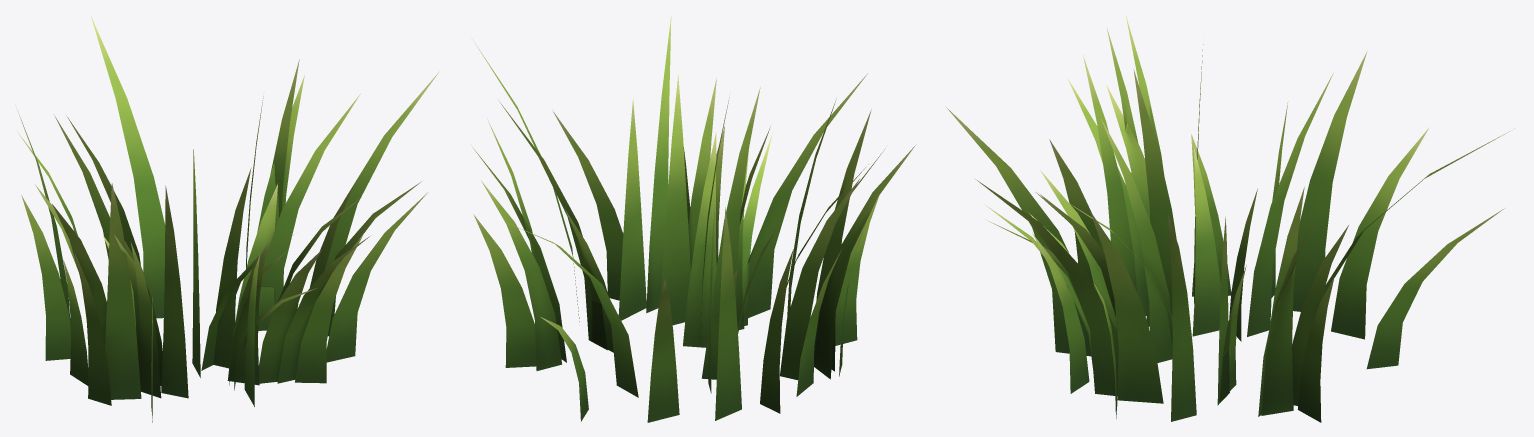
File: grass_tuft_b.glb
The picture shows the model from 3 angles, left to right: view 1: azimuth 30°, elevation 25°; view 2: azimuth 150°, elevation 25°; view 3: azimuth 270°, elevation 25°; orthographic projection. The views are drawn at different scales.
Visible parts, largest first — view 1: grass_tuft_b; view 2: grass_tuft_b; view 3: grass_tuft_b.
Boxes of the visible parts, x1,y1,x2,y2 form: grass_tuft_b: (17,15,439,422); grass_tuft_b: (471,16,916,422); grass_tuft_b: (946,16,1513,422).
Bounding box in the file's own units: 0.606 × 0.348 × 0.6707.
1 material, 1 textured.
